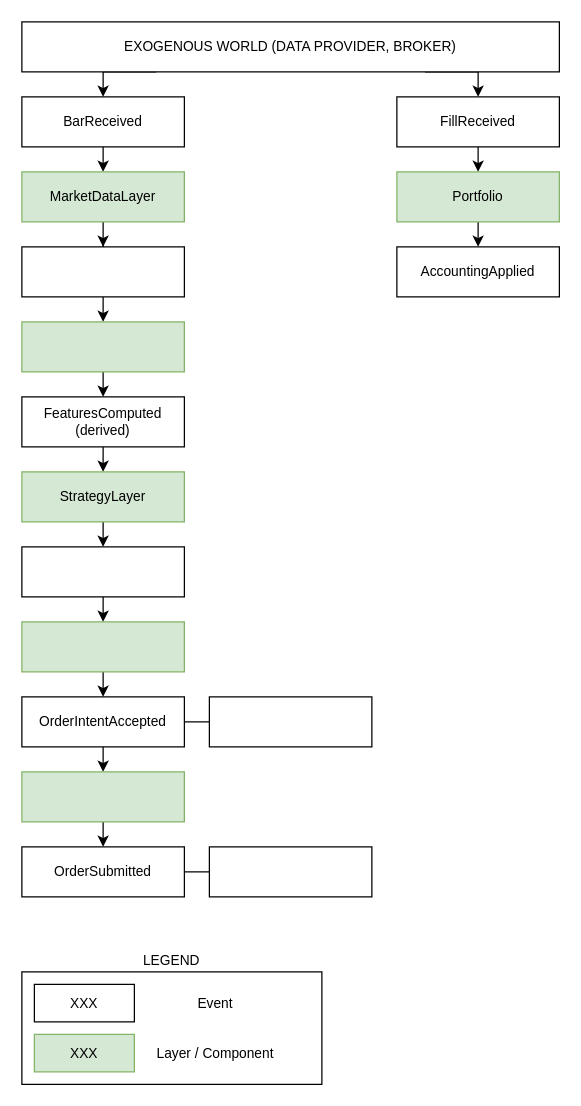
This 581x1106 diagram has some shape labels left out. Here are the shapes that lost their labels. From the top down, the box of each, then its label:
(21, 246, 184, 297): StoreUpdated (derived)
(21, 321, 184, 372): FeatureLayer
(21, 546, 184, 597): OrderIntentGenerated
(21, 621, 184, 672): RiskLayer
(208, 696, 372, 747): OrderIntentRejected
(21, 771, 184, 822): ExecutionVenue
(208, 846, 372, 897): OrderSubmissionFailed
